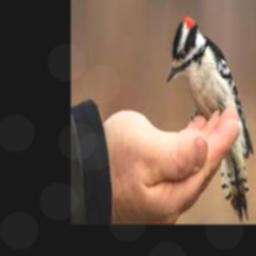Woodpecker: (167, 14, 253, 223)
